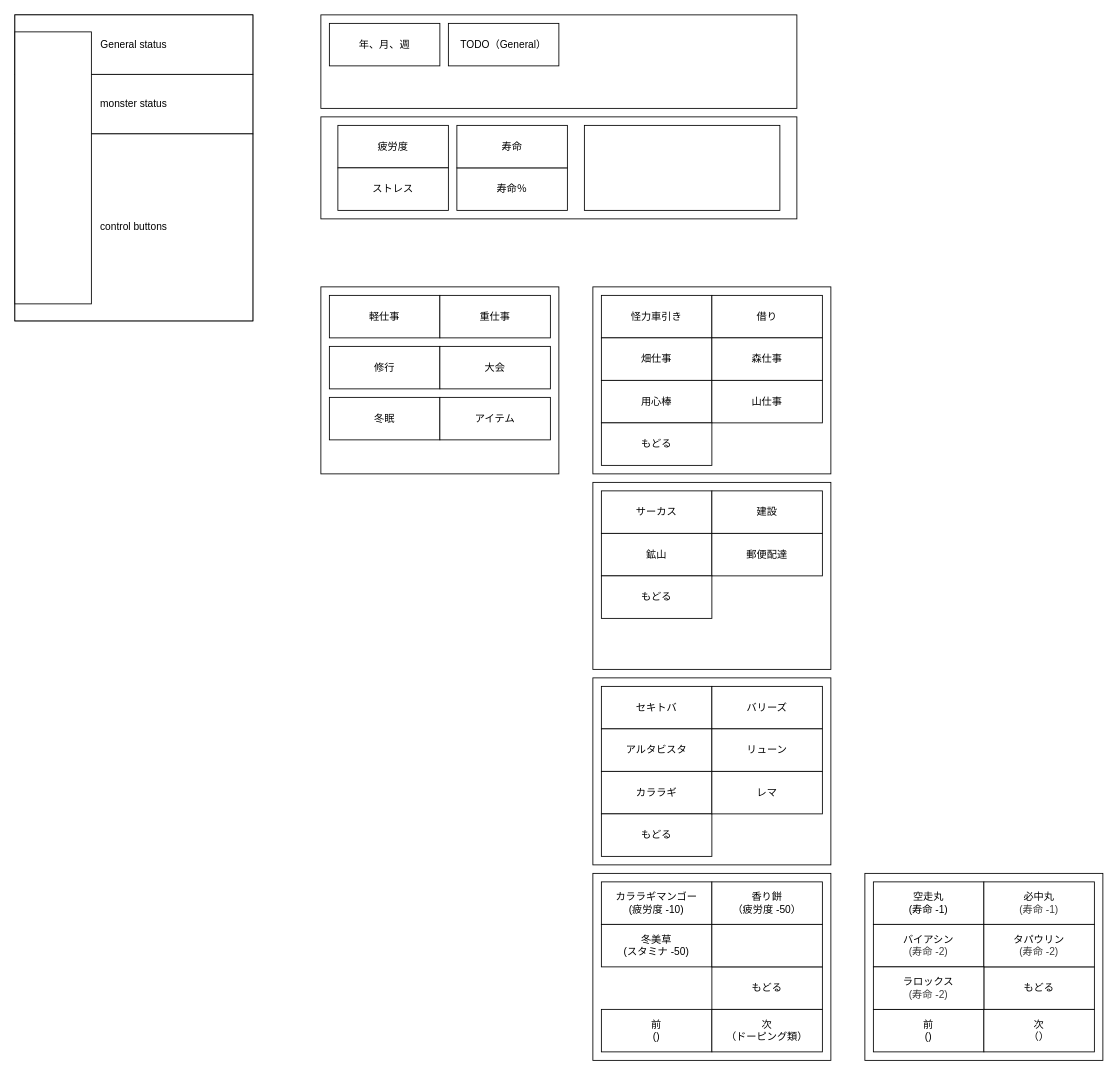
Some shapes in this 1118 by 1075 pixel diagram are drawn without their labels. Each missing label, with the centre of its shape:
TODO（Monster）: [682,167]
サイドバー スケジュール: [52,167]
